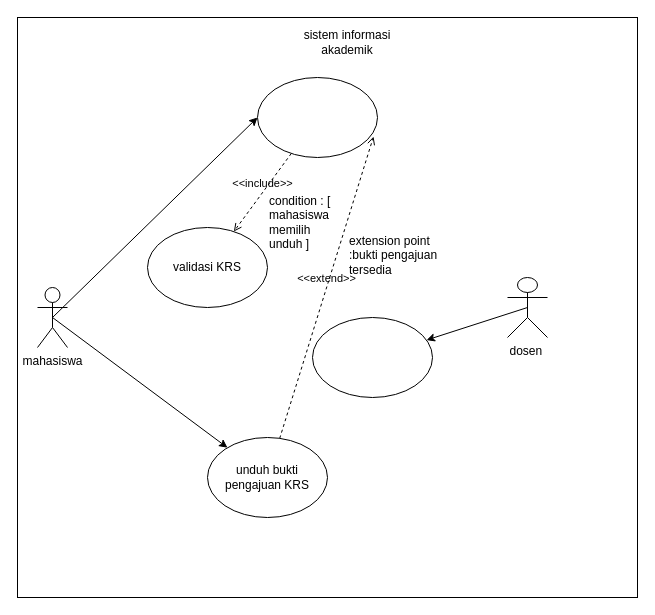
This 655x615 diagram has some shape labels left out. Here are the shapes that lost their labels. From the top down, the centre of each, then its label:
At point (317, 117): "ajukan krs".
At point (372, 357): "proses keputusan KRS".
